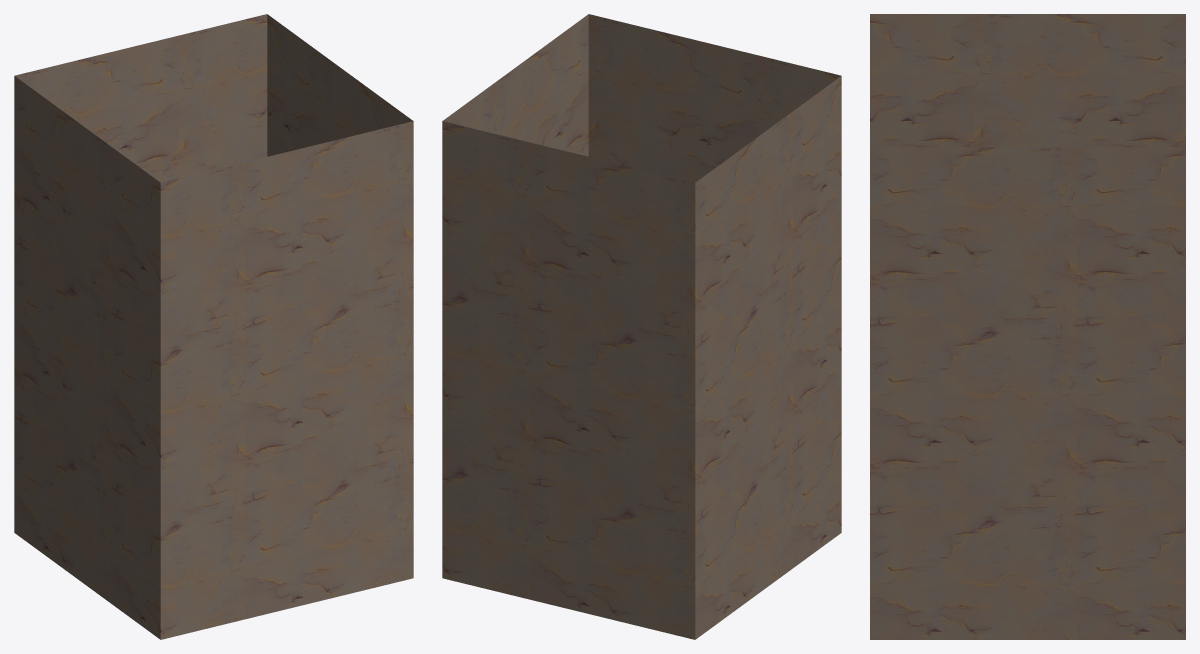
Rendered from prop_BottomDetail_Large.fbx.
The picture shows the model from 3 angles, left to right: view 1: azimuth 30°, elevation 25°; view 2: azimuth 150°, elevation 25°; view 3: azimuth 270°, elevation 25°; orthographic projection. The views are drawn at different scales.
Parts seen in each view (by area): view 1: prop_BottomDetail_Large; view 2: prop_BottomDetail_Large; view 3: prop_BottomDetail_Large.
Part boxes in pixels (x1,y1,x2,y2): prop_BottomDetail_Large: (14, 14, 413, 639); prop_BottomDetail_Large: (442, 14, 841, 639); prop_BottomDetail_Large: (870, 14, 1185, 639).
Bounding box in the file's own units: 2593 × 4479 × 2600.
